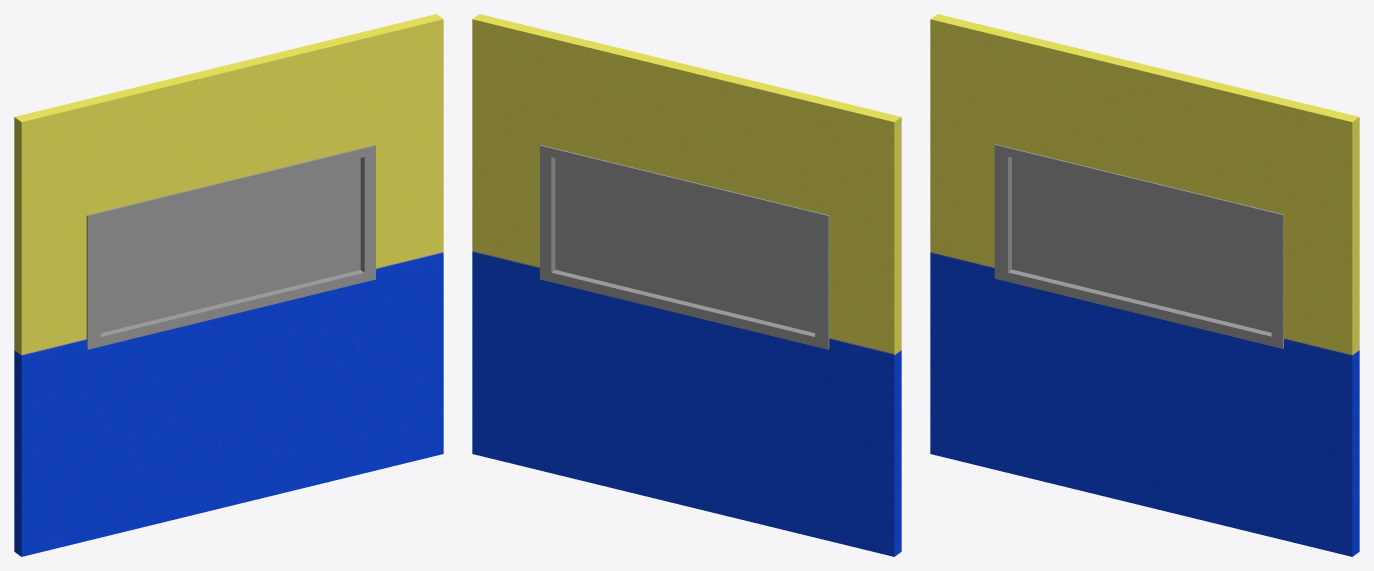
Rendered from WallWithWindow.fbx.
3 views of the same model, side by side, from view 1: azimuth 30°, elevation 25°; view 2: azimuth 150°, elevation 25°; view 3: azimuth 330°, elevation 25° (orthographic).
Parts seen in each view (by area): view 1: WallWindow; view 2: WallWindow; view 3: WallWindow.
Part boxes in pixels (x1=…): WallWindow: x1=14, y1=14, x2=443, y2=556; WallWindow: x1=472, y1=14, x2=901, y2=556; WallWindow: x1=930, y1=14, x2=1359, y2=556.
Bounding box in the file's own units: 431 × 425 × 15.84.
Materials: 3 (1 with a texture image).
